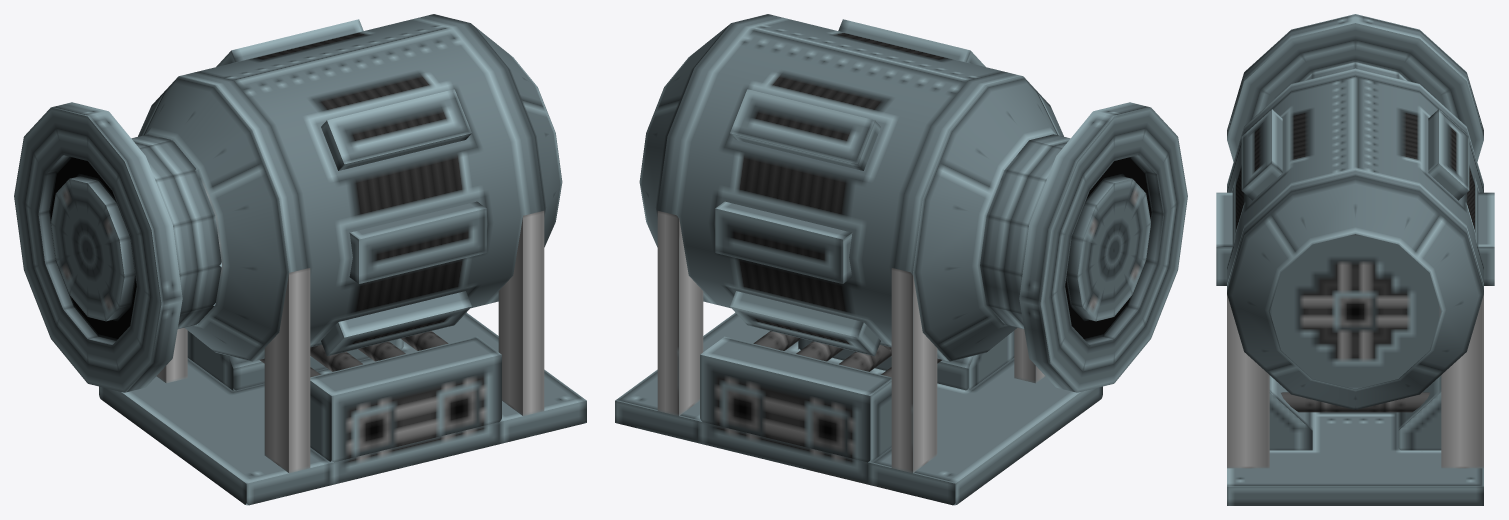
The model's file is breeder_fusion_static.obj.
The picture shows the model from 3 angles, left to right: view 1: azimuth 30°, elevation 25°; view 2: azimuth 150°, elevation 25°; view 3: azimuth 270°, elevation 25°; orthographic projection. The views are drawn at different scales.
Visible parts, largest first — view 1: Breeder; view 2: Breeder; view 3: Breeder.
Boxes of the visible parts, x1,y1,x2,y2 form: Breeder: [14, 14, 586, 505]; Breeder: [615, 14, 1187, 505]; Breeder: [1216, 14, 1494, 505].
Size of the model in its own units: 5 by 4 by 3.25.
